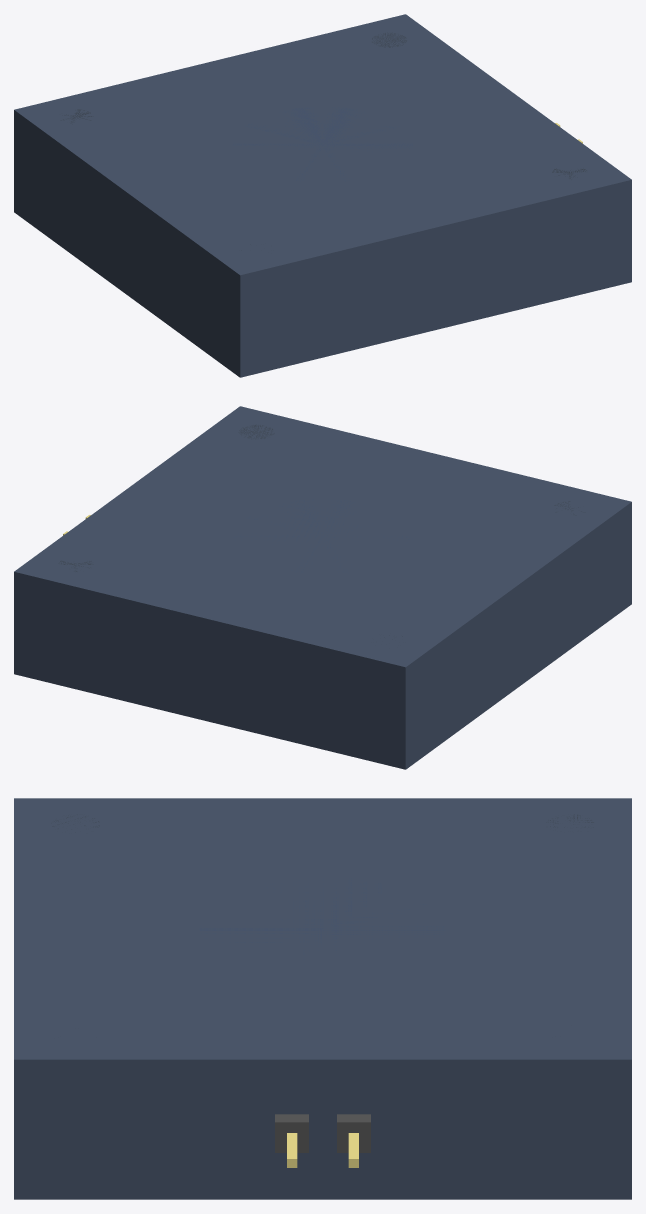
File: fan-5v-40mm.glb
The picture shows the model from 3 angles, top to bottom: view 1: azimuth 30°, elevation 25°; view 2: azimuth 150°, elevation 25°; view 3: azimuth 270°, elevation 25°; orthographic projection. The views are drawn at different scales.
Parts seen in each view (by area): view 1: fan-5v-40mm_mesh; view 2: fan-5v-40mm_mesh; view 3: fan-5v-40mm_mesh.
Boxes of the visible parts, bbox=[...] form: fan-5v-40mm_mesh: bbox=[14, 14, 631, 377]; fan-5v-40mm_mesh: bbox=[14, 406, 631, 769]; fan-5v-40mm_mesh: bbox=[14, 798, 631, 1199].
Bounding box in the file's own units: 45.2 × 10 × 40.
